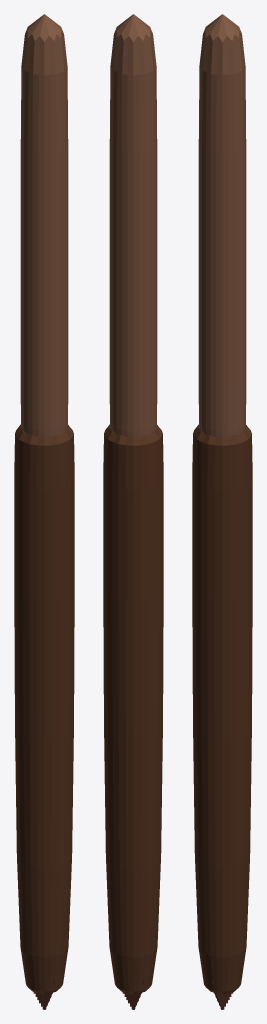
The model's file is Wand 14.glb.
3 renders of one model, left to right at view 1: azimuth 30°, elevation 25°; view 2: azimuth 210°, elevation 25°; view 3: azimuth 330°, elevation 25°, orthographic.
Parts seen in each view (by area): view 1: GeneratedWand; view 2: GeneratedWand; view 3: GeneratedWand.
Part boxes in pixels (left/top/right/bottom): GeneratedWand: left=14, top=14, right=74, bottom=1009; GeneratedWand: left=103, top=14, right=163, bottom=1009; GeneratedWand: left=192, top=14, right=252, bottom=1009.
Bounding box in the file's own units: 0.0273 × 0.4946 × 0.0273.
